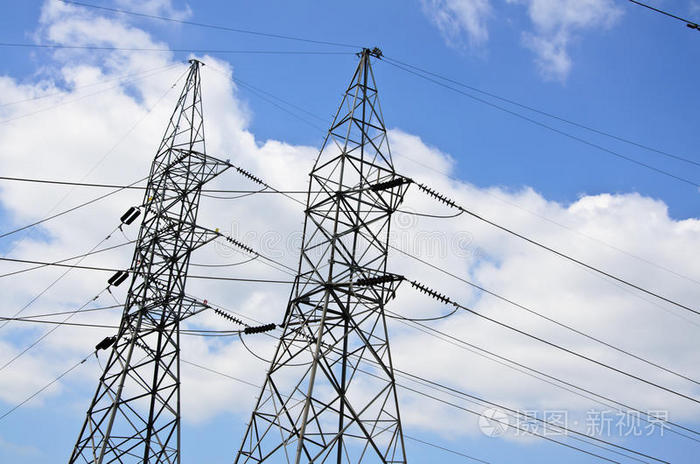insulator: (418, 182, 454, 209), (410, 280, 449, 304), (237, 167, 265, 185), (228, 234, 254, 253), (216, 307, 241, 323)
